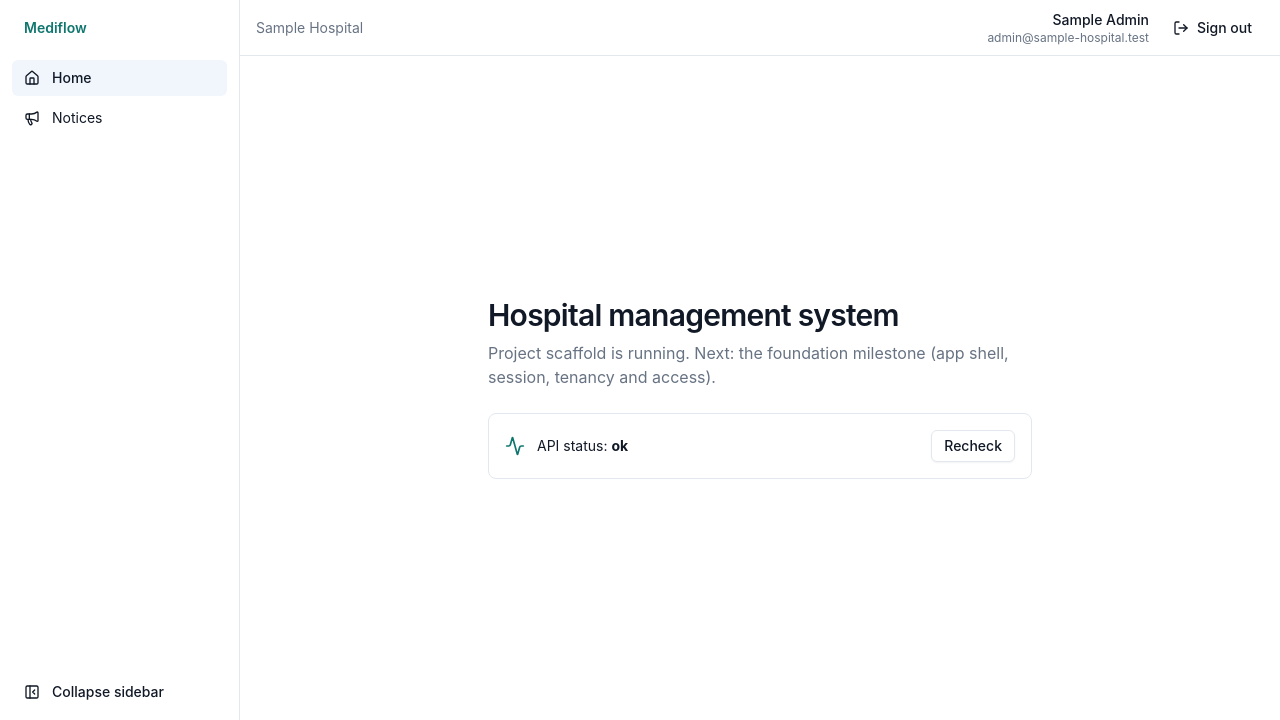
it: feature translations › bundles titles with the manifest and loads screen strings only when a screen opens
Click the link "Notices" at (63, 118), box [24,109,102,126]
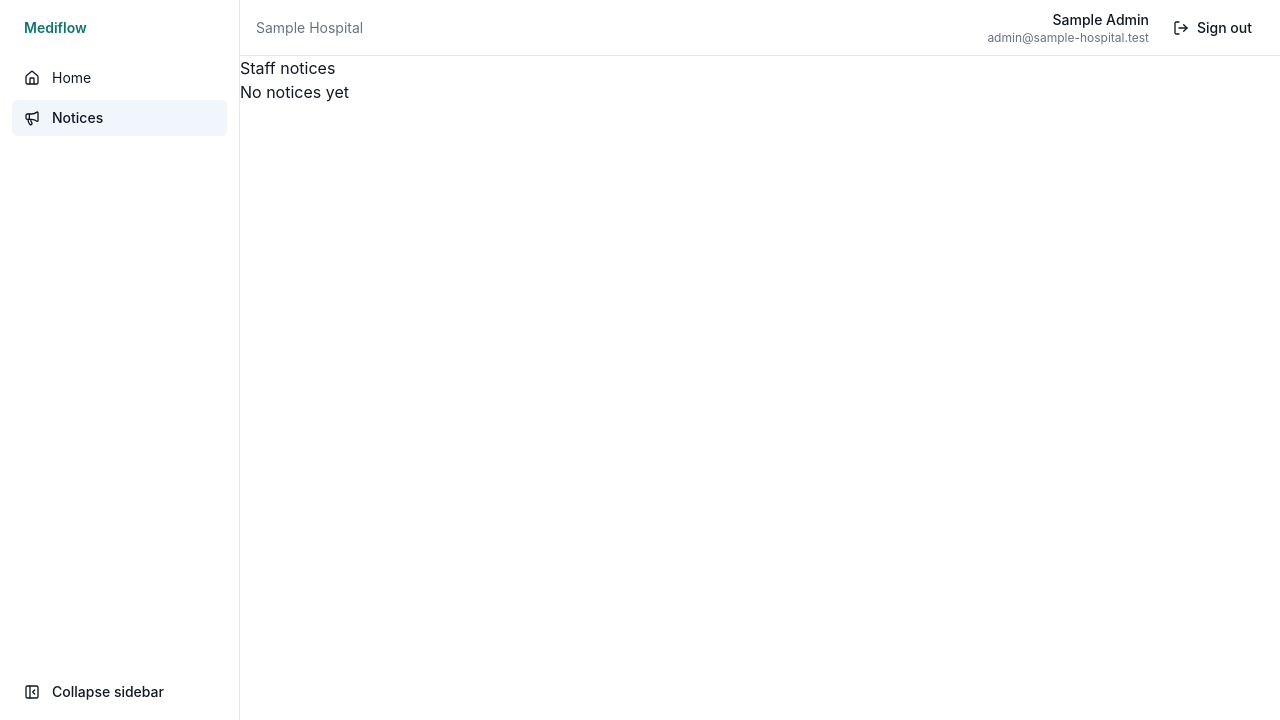
Expected: the heading "Staff notices" is shown, [240,58,335,78]
